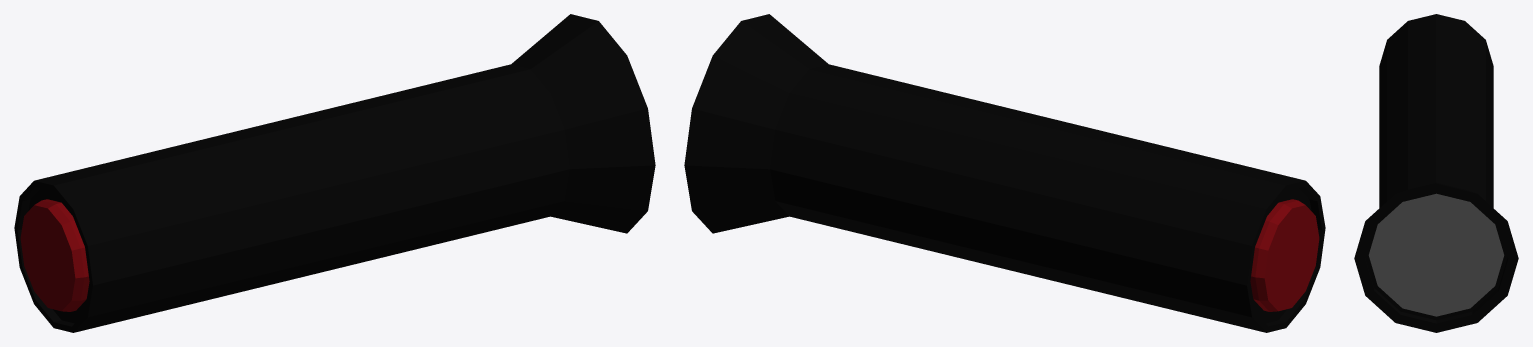
Rendered from flashlight2.fbx.
The picture shows the model from 3 angles, left to right: view 1: azimuth 30°, elevation 25°; view 2: azimuth 150°, elevation 25°; view 3: azimuth 270°, elevation 25°; orthographic projection. The views are drawn at different scales.
Parts seen in each view (by area): view 1: Cylinder; view 2: Cylinder; view 3: Cylinder.
Part boxes in pixels (box(x1,y1,x2,y2)): Cylinder: box(14, 14, 655, 332); Cylinder: box(684, 14, 1325, 332); Cylinder: box(1354, 14, 1518, 332).
Size of the model in its own units: 808 by 288 by 288.
